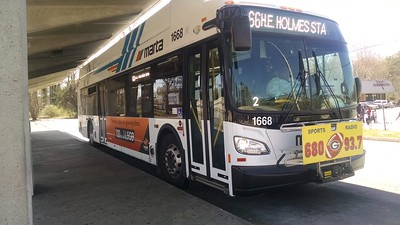bus: (77, 1, 365, 197)
